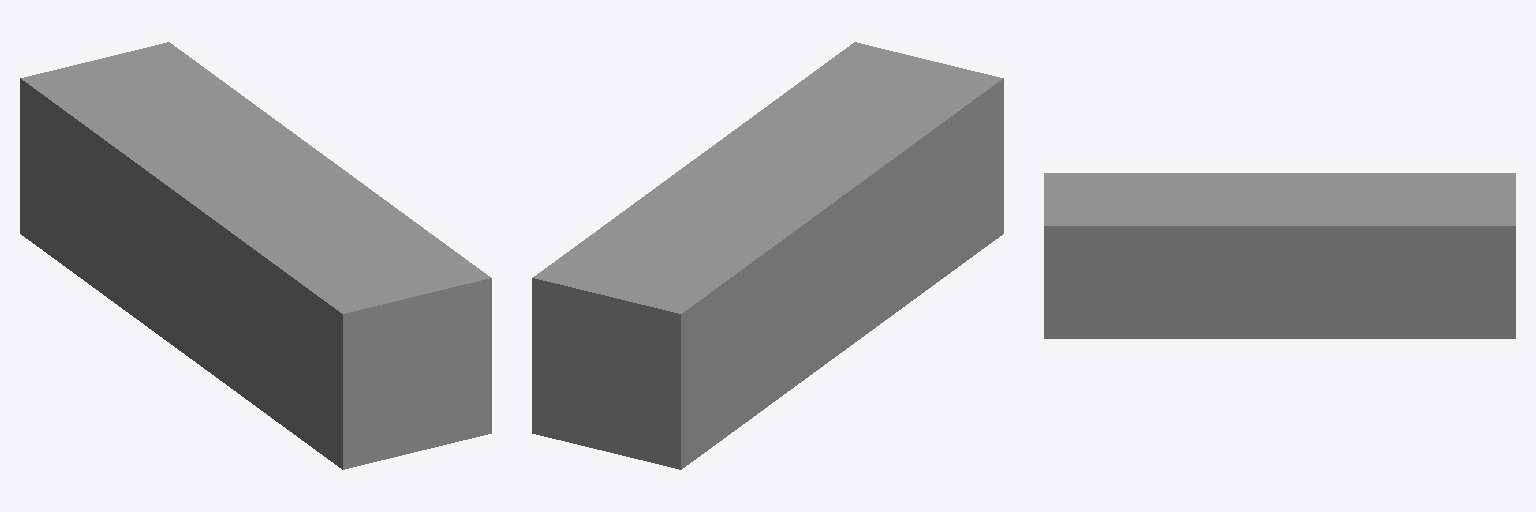
URDF robot description (base_piece):
<robot name="base_piece">
<link name="base_piece">
<visual>
<origin xyz="0 0 0.36500000000000010214" rpy="0 -0 0" />
<geometry>
<mesh filename="horizontal_wall_shapes/base_piece.obj"/>
</geometry>
<material name="part_2_material">
<color rgba="0.64705882352941179736 0.64705882352941179736 0.64705882352941179736 1.0"/>
</material>
</visual>
<collision>
<origin xyz="0 0 0.36500000000000010214" rpy="0 -0 0" />
<geometry>
<mesh filename="horizontal_wall_shapes/base_piece.obj"/>
</geometry>
</collision>
<inertial>
<origin xyz="0 1.4456028966473387318e-17 -5.5511151231257827021e-17" rpy="0 0 0"/>
<mass value="100" />
<inertia ixx="11.62825000000000486" ixy="0"  ixz="0" iyy="1.5440000000000011493" iyz="-1.0914533166150877953e-15" izz="11.62825000000000486" />
</inertial>
</link>


</robot>

--- Render facts (derived) ---
3 views of the same robot in one strip: view 1: azimuth 30°, elevation 25°; view 2: azimuth 150°, elevation 25°; view 3: azimuth 270°, elevation 25° (orthographic).
Robot: base_piece — 1 links, 0 joints (none); root link base_piece; default pose: all joints at 0.
Visible links, largest first — view 1: base_piece; view 2: base_piece; view 3: base_piece.
Boxes of the visible links, x1=… form: base_piece: x1=20, y1=42, x2=491, y2=469; base_piece: x1=532, y1=42, x2=1003, y2=469; base_piece: x1=1044, y1=173, x2=1515, y2=338.
Bounding box of the posed robot: 0.2 × 0.75 × 0.2 m (x, y, z).
1 mesh visuals loaded from 1 distinct referenced files (1 OBJ).